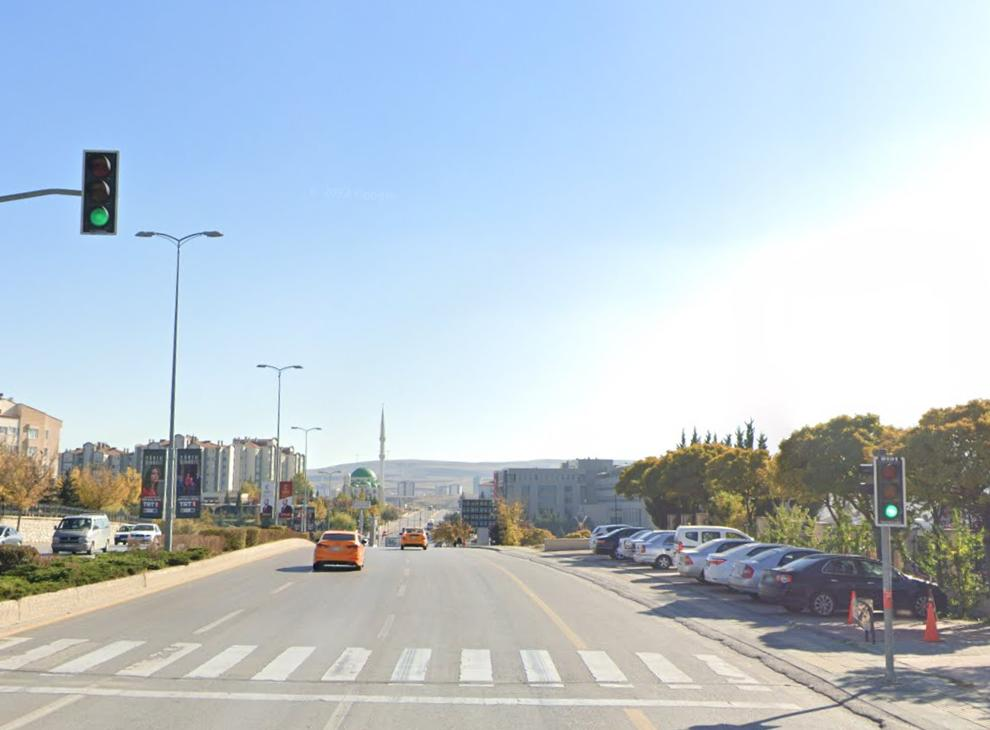greenlight: (78, 144, 126, 242), (868, 449, 911, 535)
